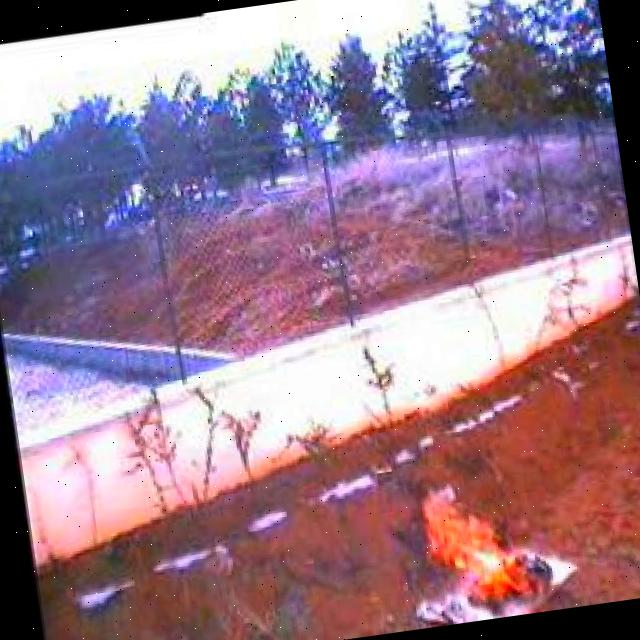fire: (418, 466, 556, 626)
